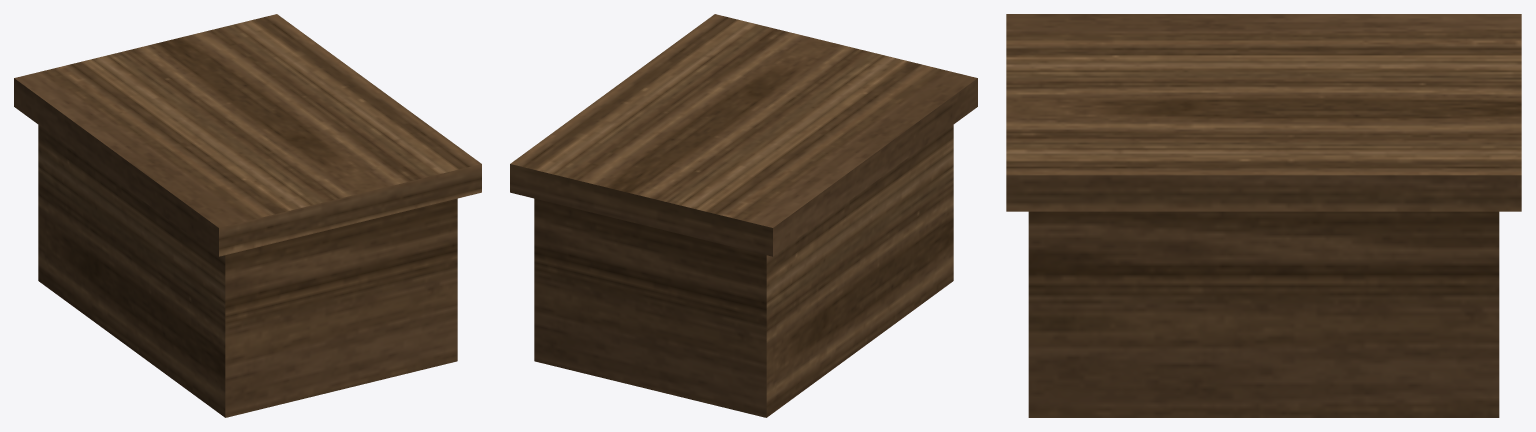
The model's file is Table.fbx.
3 renders of one model, left to right at view 1: azimuth 30°, elevation 25°; view 2: azimuth 150°, elevation 25°; view 3: azimuth 270°, elevation 25°, orthographic. The views are drawn at different scales.
Visible parts, largest first — view 1: Counter; view 2: Counter; view 3: Counter.
Part boxes in pixels (x1,y1,x2,y2): Counter: (14,14,481,417); Counter: (510,14,977,417); Counter: (1006,14,1521,417).
Size of the model in its own units: 481 by 350 by 650.
